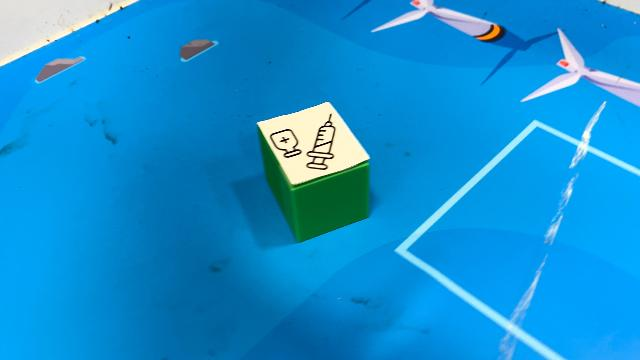syringe: (256, 101, 370, 243)
